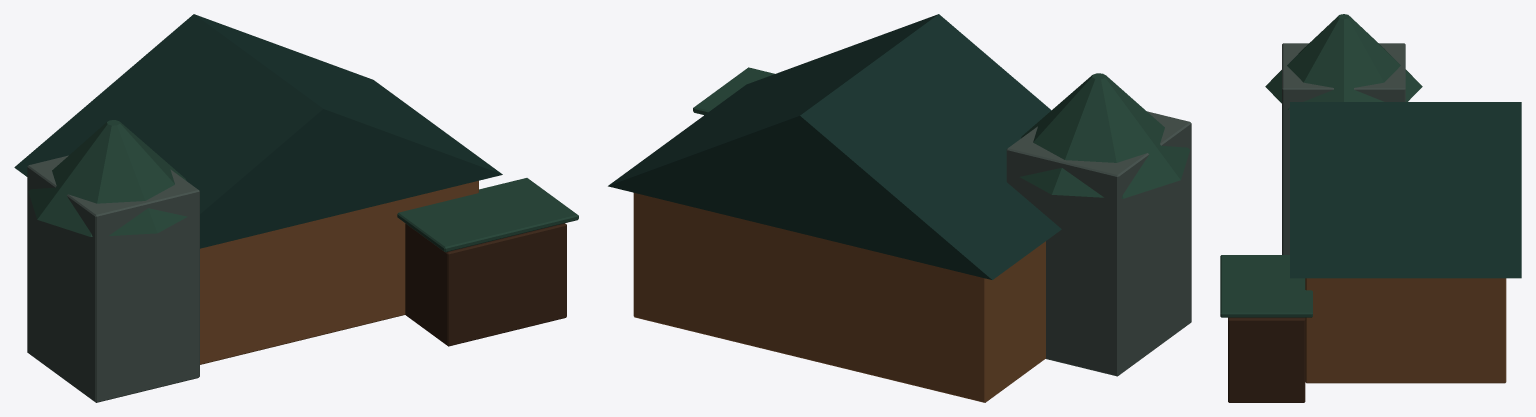
The model's file is LumenMossglenRangerHallV2.glb.
3 renders of one model, left to right at view 1: azimuth 30°, elevation 25°; view 2: azimuth 150°, elevation 25°; view 3: azimuth 270°, elevation 25°, orthographic. The views are drawn at different scales.
Visible parts, largest first — view 1: LumenMossglenRangerHallV2; view 2: LumenMossglenRangerHallV2; view 3: LumenMossglenRangerHallV2.
Part boxes in pixels (x1,y1,x2,y2): LumenMossglenRangerHallV2: [14, 14, 578, 402]; LumenMossglenRangerHallV2: [608, 14, 1191, 402]; LumenMossglenRangerHallV2: [1220, 14, 1521, 402].
Bounding box in the file's own units: 31.6 × 15.5 × 19.5.
1 material, 1 textured.
